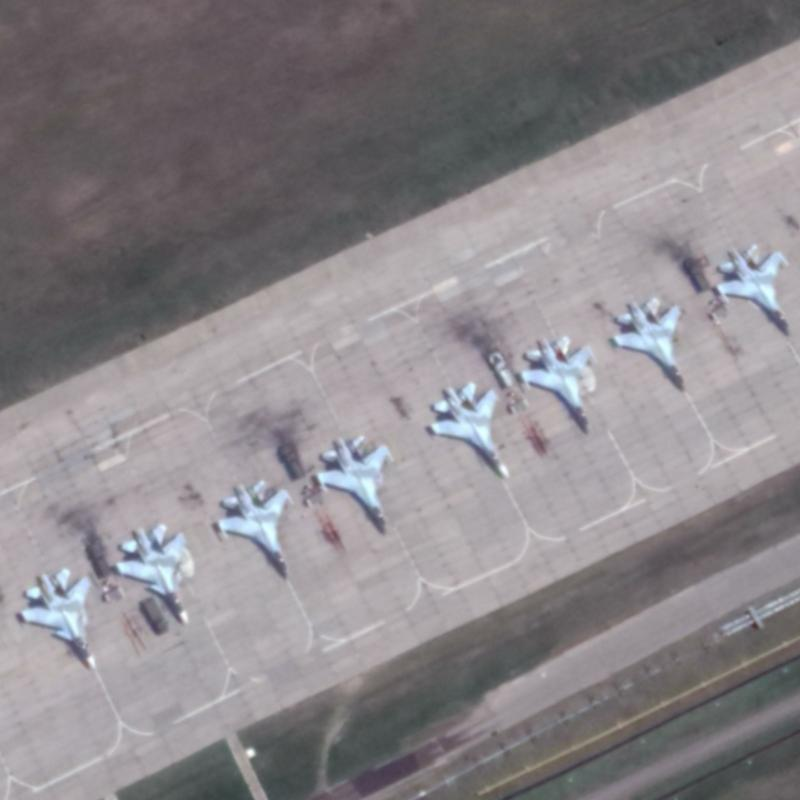A1: (425, 377, 514, 481), (709, 239, 795, 339), (211, 475, 295, 577), (310, 433, 398, 530), (517, 332, 599, 434), (608, 292, 690, 393)
A19: (16, 564, 98, 671), (111, 520, 193, 626)
